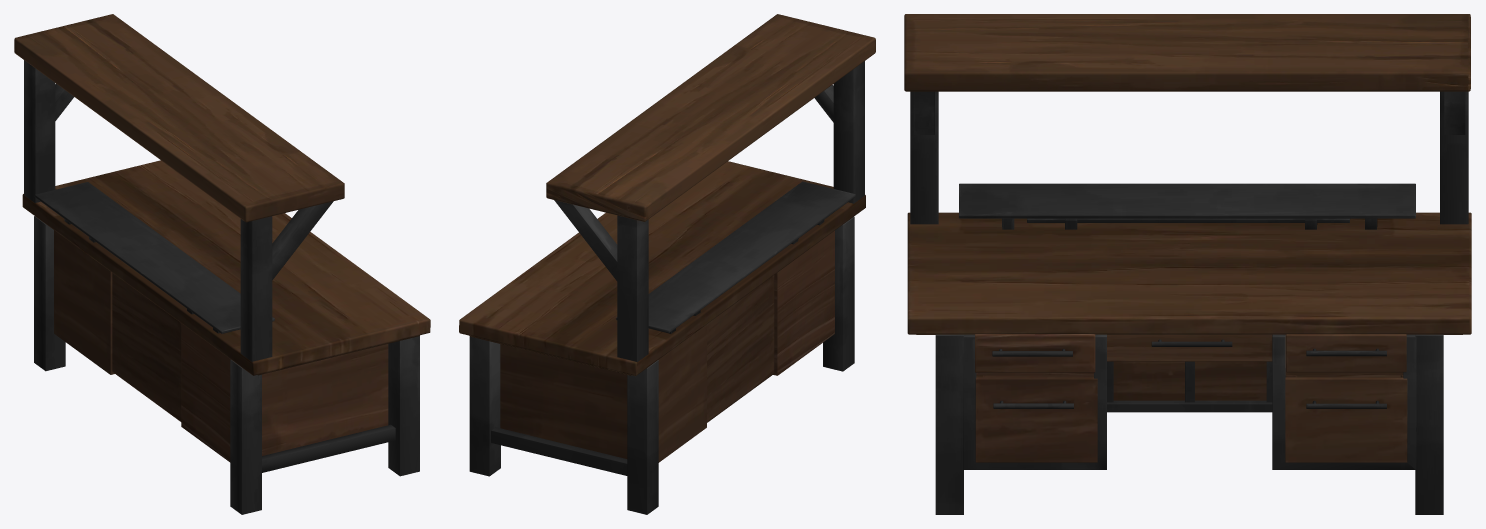
File: wooden_desk.glb
3 renders of one model, left to right at view 1: azimuth 30°, elevation 25°; view 2: azimuth 150°, elevation 25°; view 3: azimuth 270°, elevation 25°, orthographic. The views are drawn at different scales.
Visible parts, largest first — view 1: UpperSupportL_UpperPieces_0, TableTop_DeskBoards_0, DrawerSupportL_DrawerL_0, Support1_Foundations_0, SmallSupportL1_MiniBoard_0, TableBack_MiddleSection_0, Drawer1CoverR_DrawerR_0; view 2: UpperSupportL_UpperPieces_0, TableTop_DeskBoards_0, Drawer1CoverR_DrawerR_0, Support1_Foundations_0, SmallSupportL1_MiniBoard_0, TableBack_MiddleSection_0, DrawerSupportL_DrawerL_0; view 3: TableTop_DeskBoards_0, UpperSupportL_UpperPieces_0, Support1_Foundations_0, SmallSupportL1_MiniBoard_0, Drawer1CoverR_DrawerR_0, DrawerSupportL_DrawerL_0, TableBack_MiddleSection_0, Drawer1HandleL_Handles_0.
Boxes of the visible parts, x1,y1,x2,y2 form: UpperSupportL_UpperPieces_0: (14, 14, 344, 361); TableTop_DeskBoards_0: (22, 160, 430, 375); DrawerSupportL_DrawerL_0: (181, 323, 388, 462); Support1_Foundations_0: (34, 216, 419, 514); SmallSupportL1_MiniBoard_0: (34, 182, 274, 333); TableBack_MiddleSection_0: (112, 273, 181, 421); Drawer1CoverR_DrawerR_0: (54, 230, 114, 374); UpperSupportL_UpperPieces_0: (546, 14, 875, 362); TableTop_DeskBoards_0: (459, 161, 865, 376); Drawer1CoverR_DrawerR_0: (500, 324, 706, 462); Support1_Foundations_0: (469, 217, 854, 514); SmallSupportL1_MiniBoard_0: (616, 181, 855, 333); TableBack_MiddleSection_0: (707, 275, 774, 422); DrawerSupportL_DrawerL_0: (773, 230, 834, 375); TableTop_DeskBoards_0: (907, 212, 1471, 334); UpperSupportL_UpperPieces_0: (904, 14, 1470, 224); Support1_Foundations_0: (935, 334, 1443, 514); SmallSupportL1_MiniBoard_0: (959, 183, 1415, 229); Drawer1CoverR_DrawerR_0: (1285, 334, 1407, 462); DrawerSupportL_DrawerL_0: (975, 334, 1097, 462); TableBack_MiddleSection_0: (1107, 335, 1272, 400); Drawer1HandleL_Handles_0: (992, 339, 1386, 408).
Bounding box in the file's own units: 5.57 × 8.54 × 11.26.
8 materials, 8 textured.
